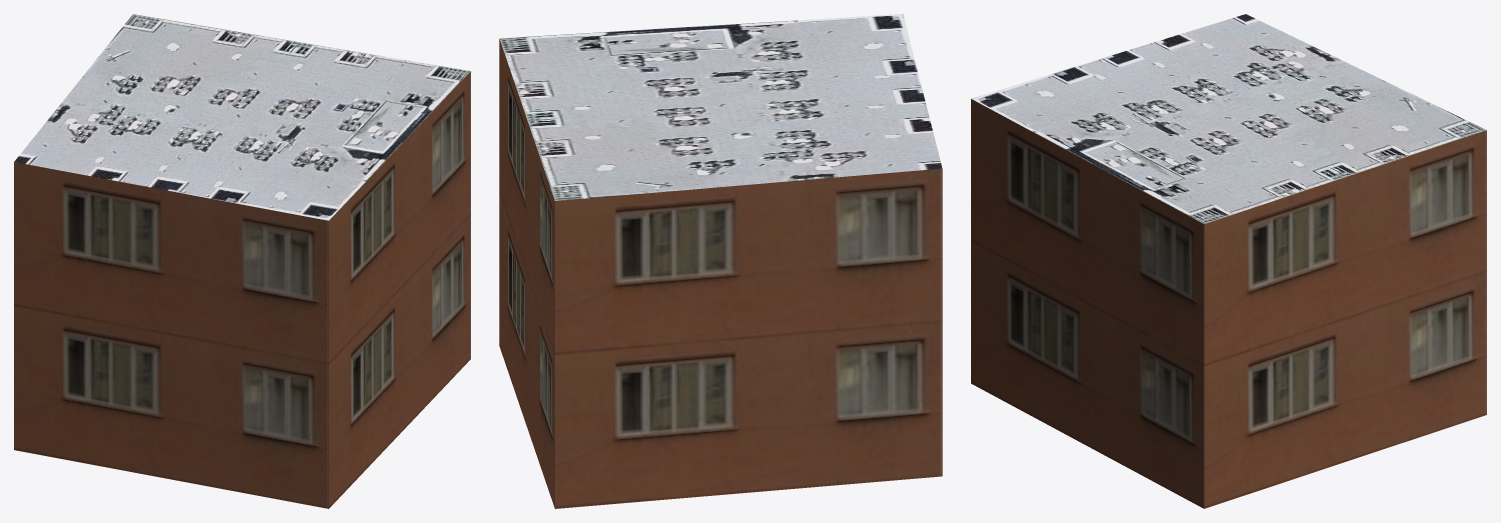
File: ResTex__2481.fbx
The picture shows the model from 3 angles, left to right: view 1: azimuth 30°, elevation 25°; view 2: azimuth 150°, elevation 25°; view 3: azimuth 270°, elevation 25°; orthographic projection. The views are drawn at different scales.
Visible parts, largest first — view 1: CityEngineMaterial_20_m, CityEngineMaterial_m; view 2: CityEngineMaterial_20_m, CityEngineMaterial_m; view 3: CityEngineMaterial_20_m, CityEngineMaterial_m.
Part boxes in pixels (x1,y1,x2,y2): CityEngineMaterial_20_m: (14, 71, 470, 508); CityEngineMaterial_m: (14, 14, 470, 220); CityEngineMaterial_20_m: (499, 39, 942, 508); CityEngineMaterial_m: (499, 14, 942, 200); CityEngineMaterial_20_m: (971, 99, 1486, 508); CityEngineMaterial_m: (971, 14, 1486, 223).
Bounding box in the file's own units: 9.49 × 6 × 9.85.
Materials: 2 (2 with a texture image).
